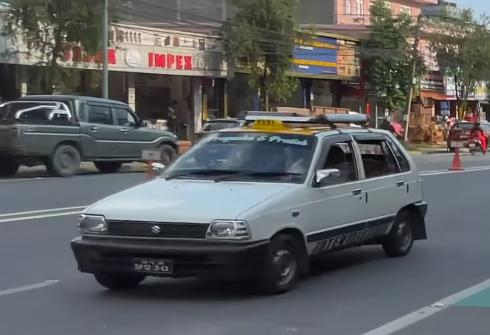taxi: (68, 101, 440, 291)
